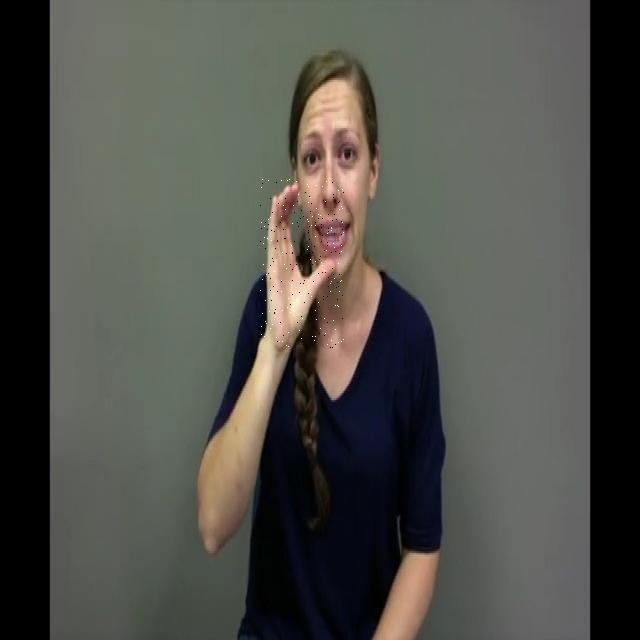drink: (260, 179, 344, 348)
